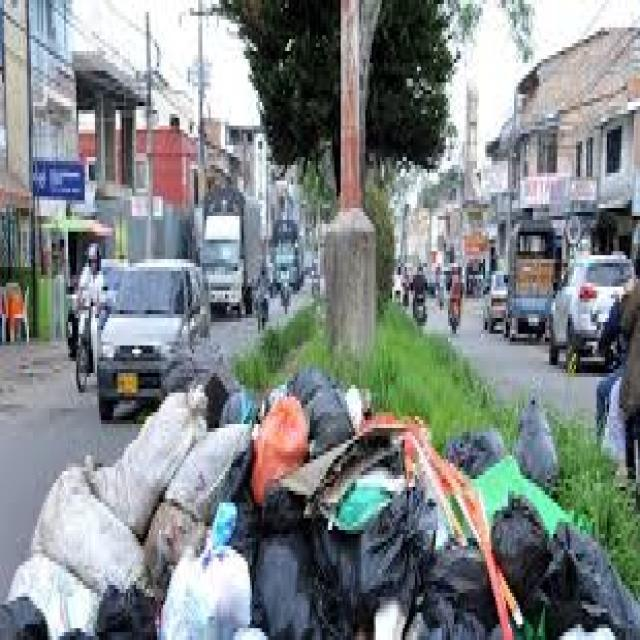garbage: (49, 382, 624, 640)
